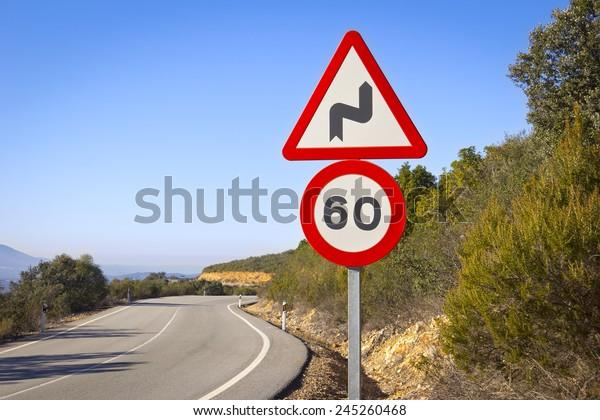Right Reverse Bend: (280, 31, 428, 158)
